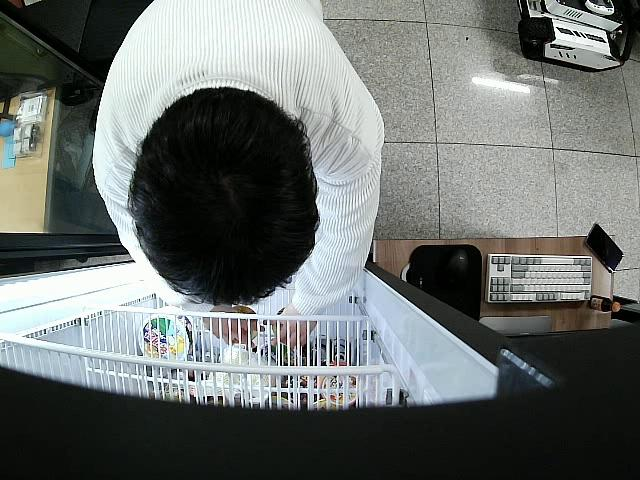00_hand: (207, 306, 263, 353), (273, 309, 317, 349)
